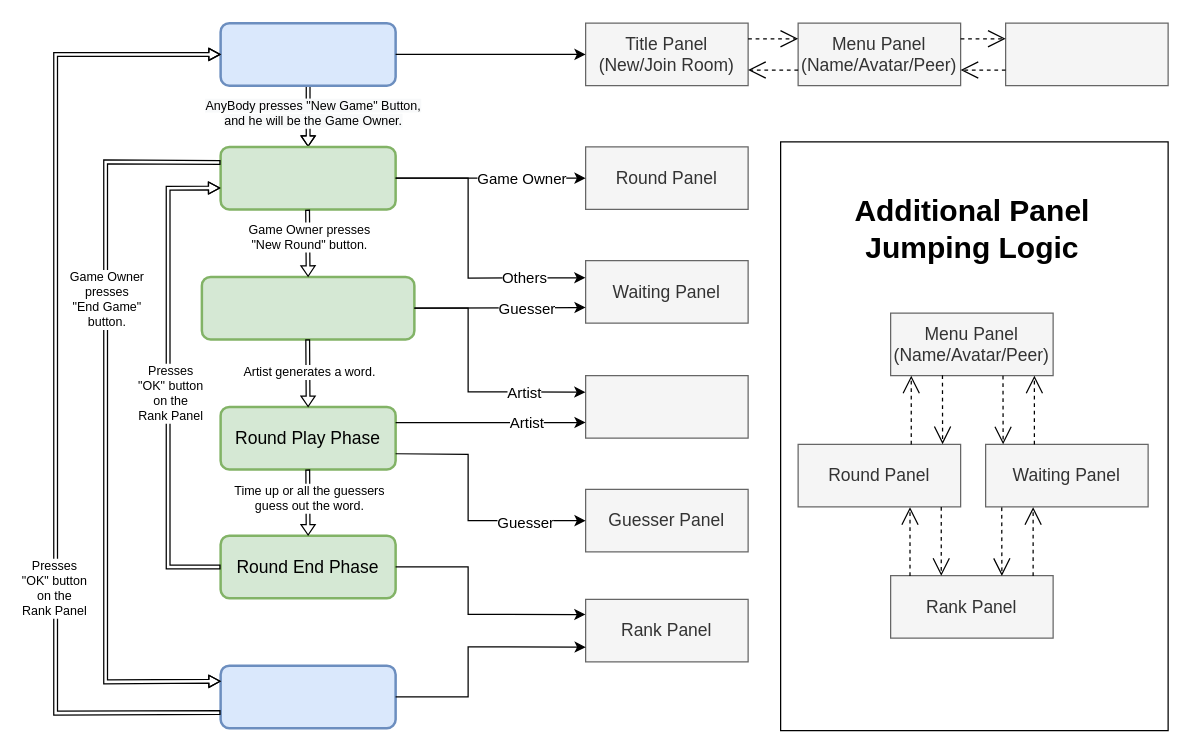
This 1190x753 diagram has some shape labels left out. Here are the shapes that lost their labels. From the top down, the centre of each, then its label:
point (307, 53): Game Start Phase
point (1086, 54): Game Start Panel
point (307, 177): Round Start Phase
point (307, 307): Round Pick Word Phase
point (666, 406): Artist Panel
point (307, 696): Game End Phase
